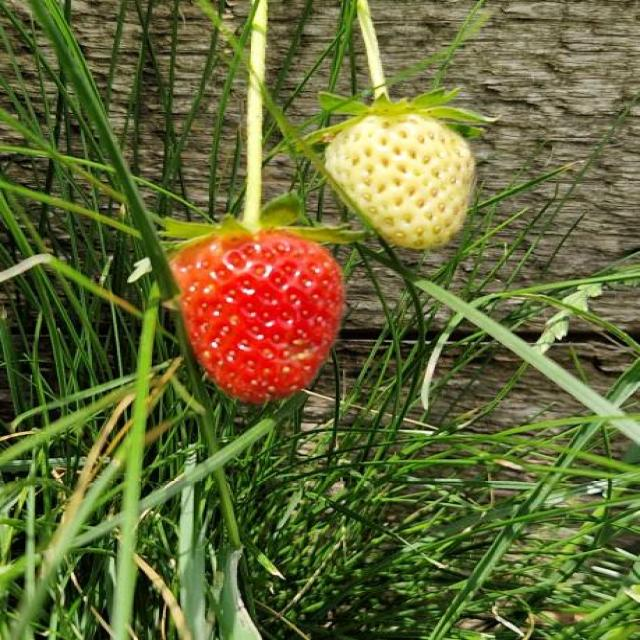Healthy Fruit: (167, 230, 343, 402), (319, 112, 475, 246)
